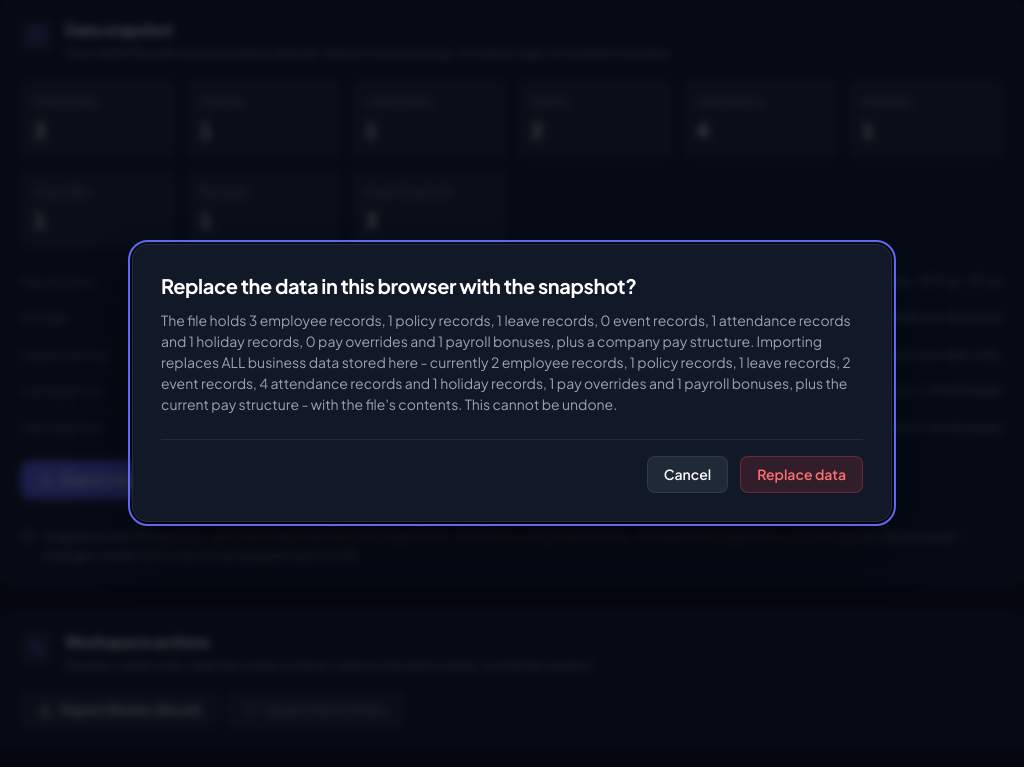
Test: Admin snapshot card — import › asks for confirmation with both sides of the replacement, then imports and reports up
Earlier steps of the test are not shown.
expect the dialog shows "3 employee records": met, box top-left (161, 311), bottom-right (851, 413)
expect the dialog shows "currently 2 employee records": met, box top-left (161, 311), bottom-right (851, 413)
Click the button "Replace data": x=802, y=474 top-left (740, 456), bottom-right (863, 493)
(page scrolled)
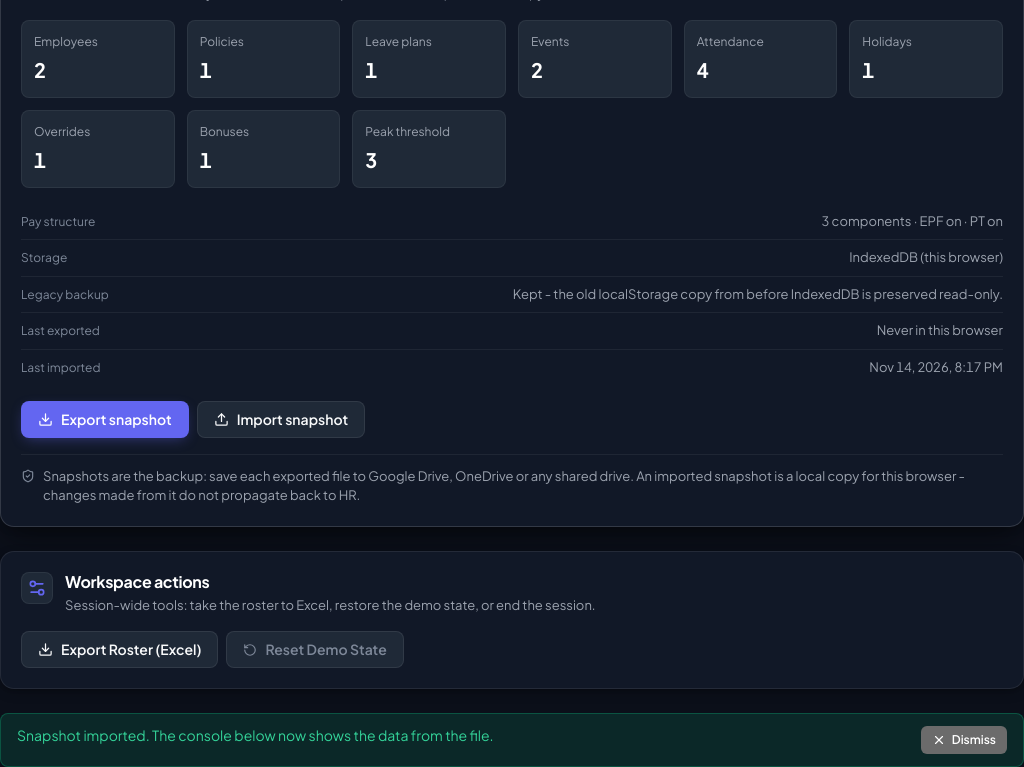
expect the message shows "Snapshot imported": met, box top-left (17, 726), bottom-right (494, 744)
expect the text "Last imported" no longer shows "Never in this browser": met
